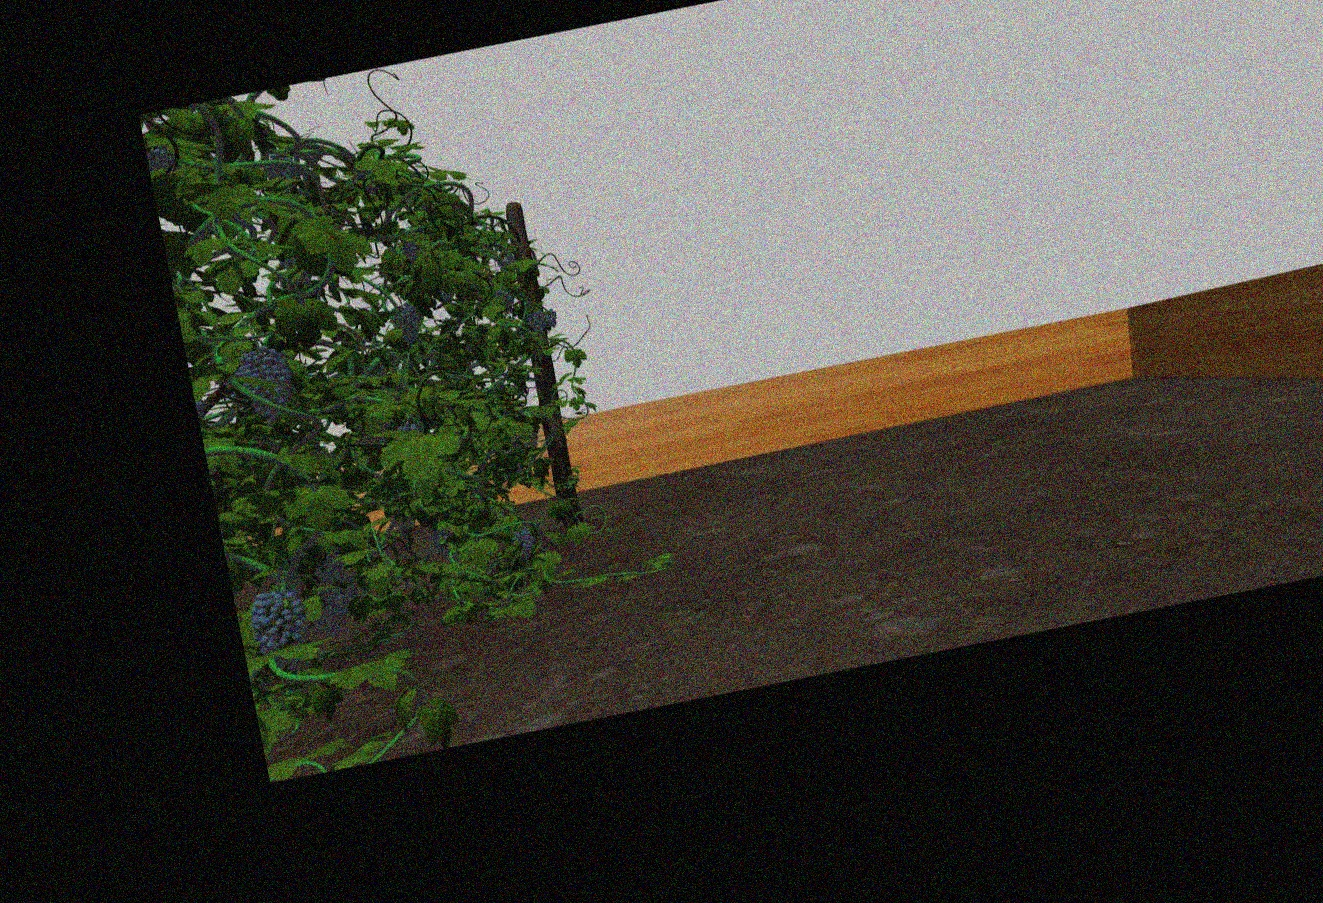grape: (253, 589, 310, 674), (238, 346, 295, 423), (313, 588, 347, 636), (392, 301, 422, 346), (317, 551, 346, 586), (512, 526, 536, 558), (339, 574, 359, 611), (432, 527, 451, 560), (527, 312, 546, 333), (544, 308, 558, 328)
